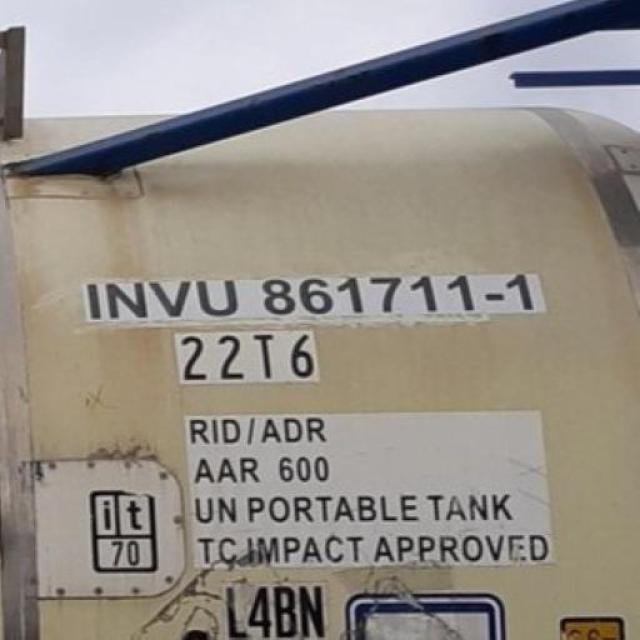ISO: (178, 333, 324, 391)
container_number: (82, 258, 540, 328)
